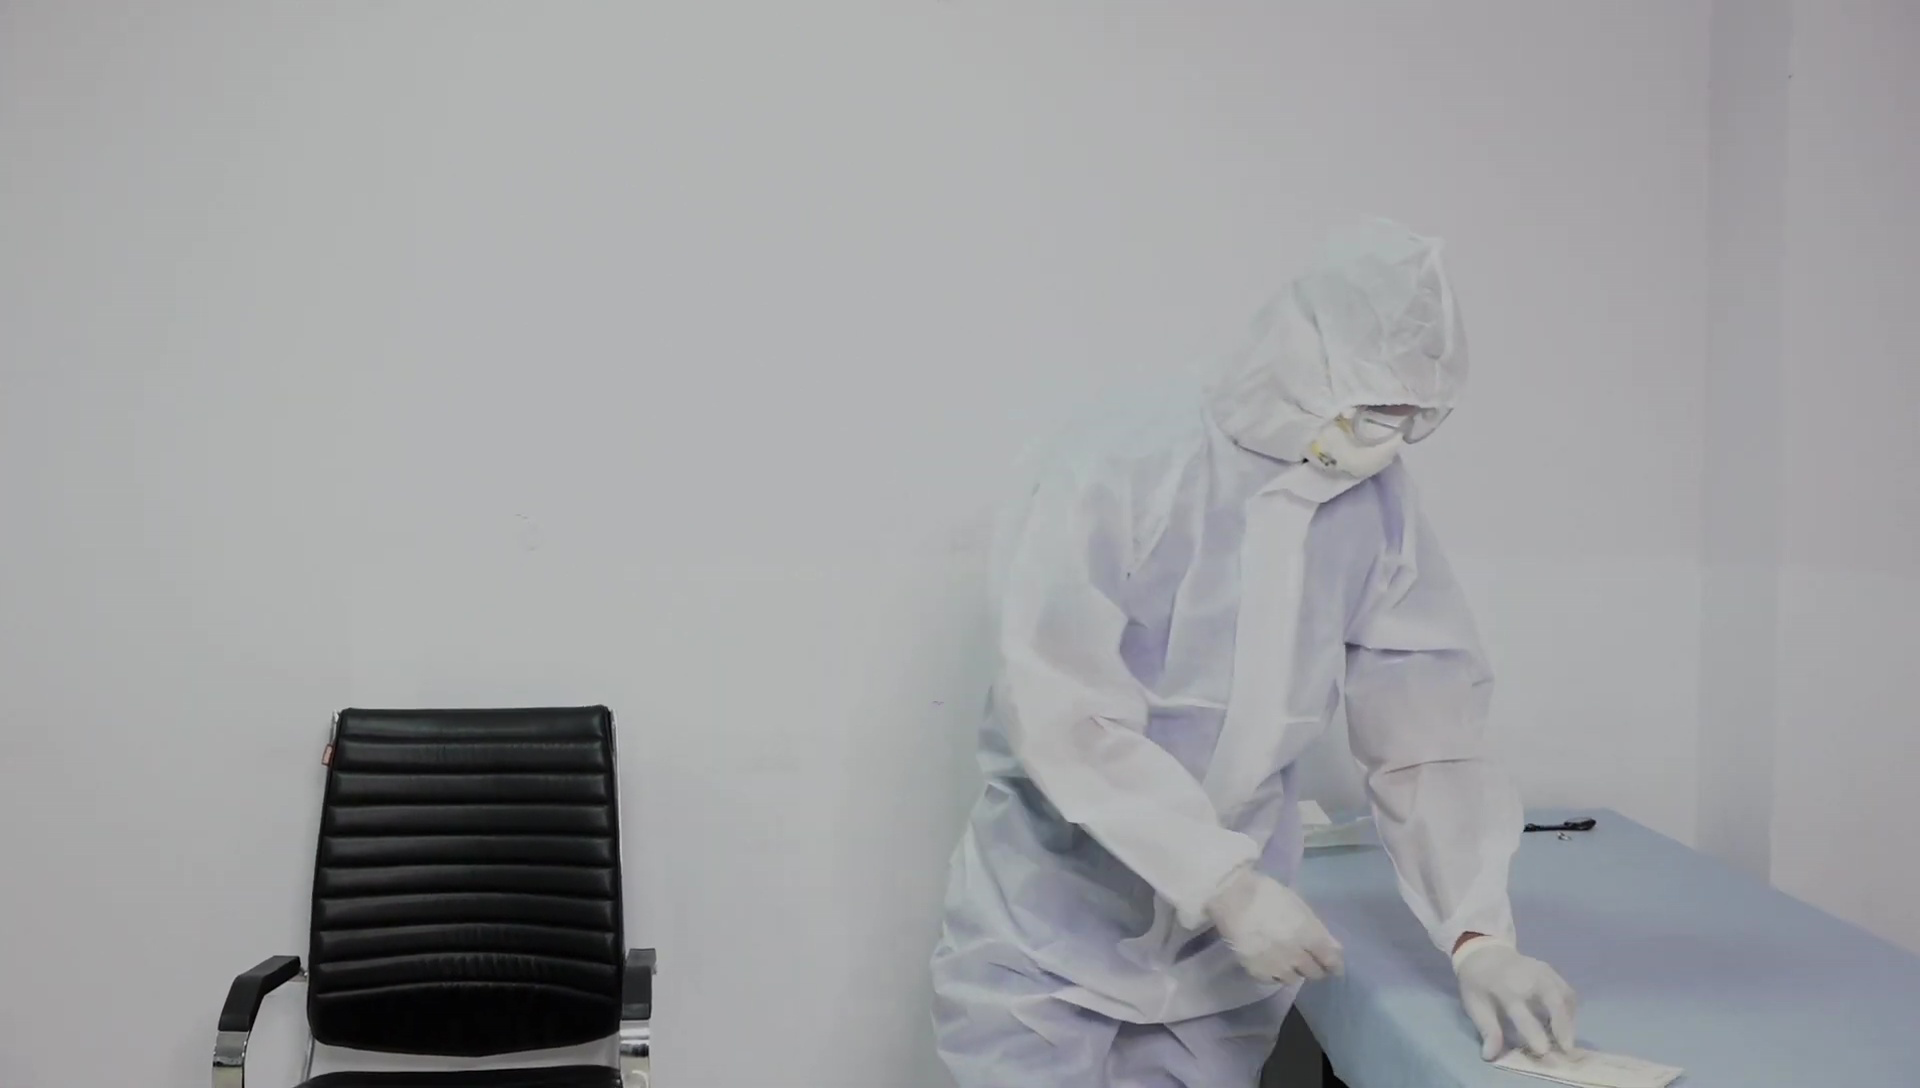Coverall: (926, 214, 1523, 1083)
Gloves: (1203, 863, 1346, 989), (1450, 937, 1580, 1062)
Goggles: (1337, 396, 1456, 446)
with_mask: (1307, 419, 1406, 478)
